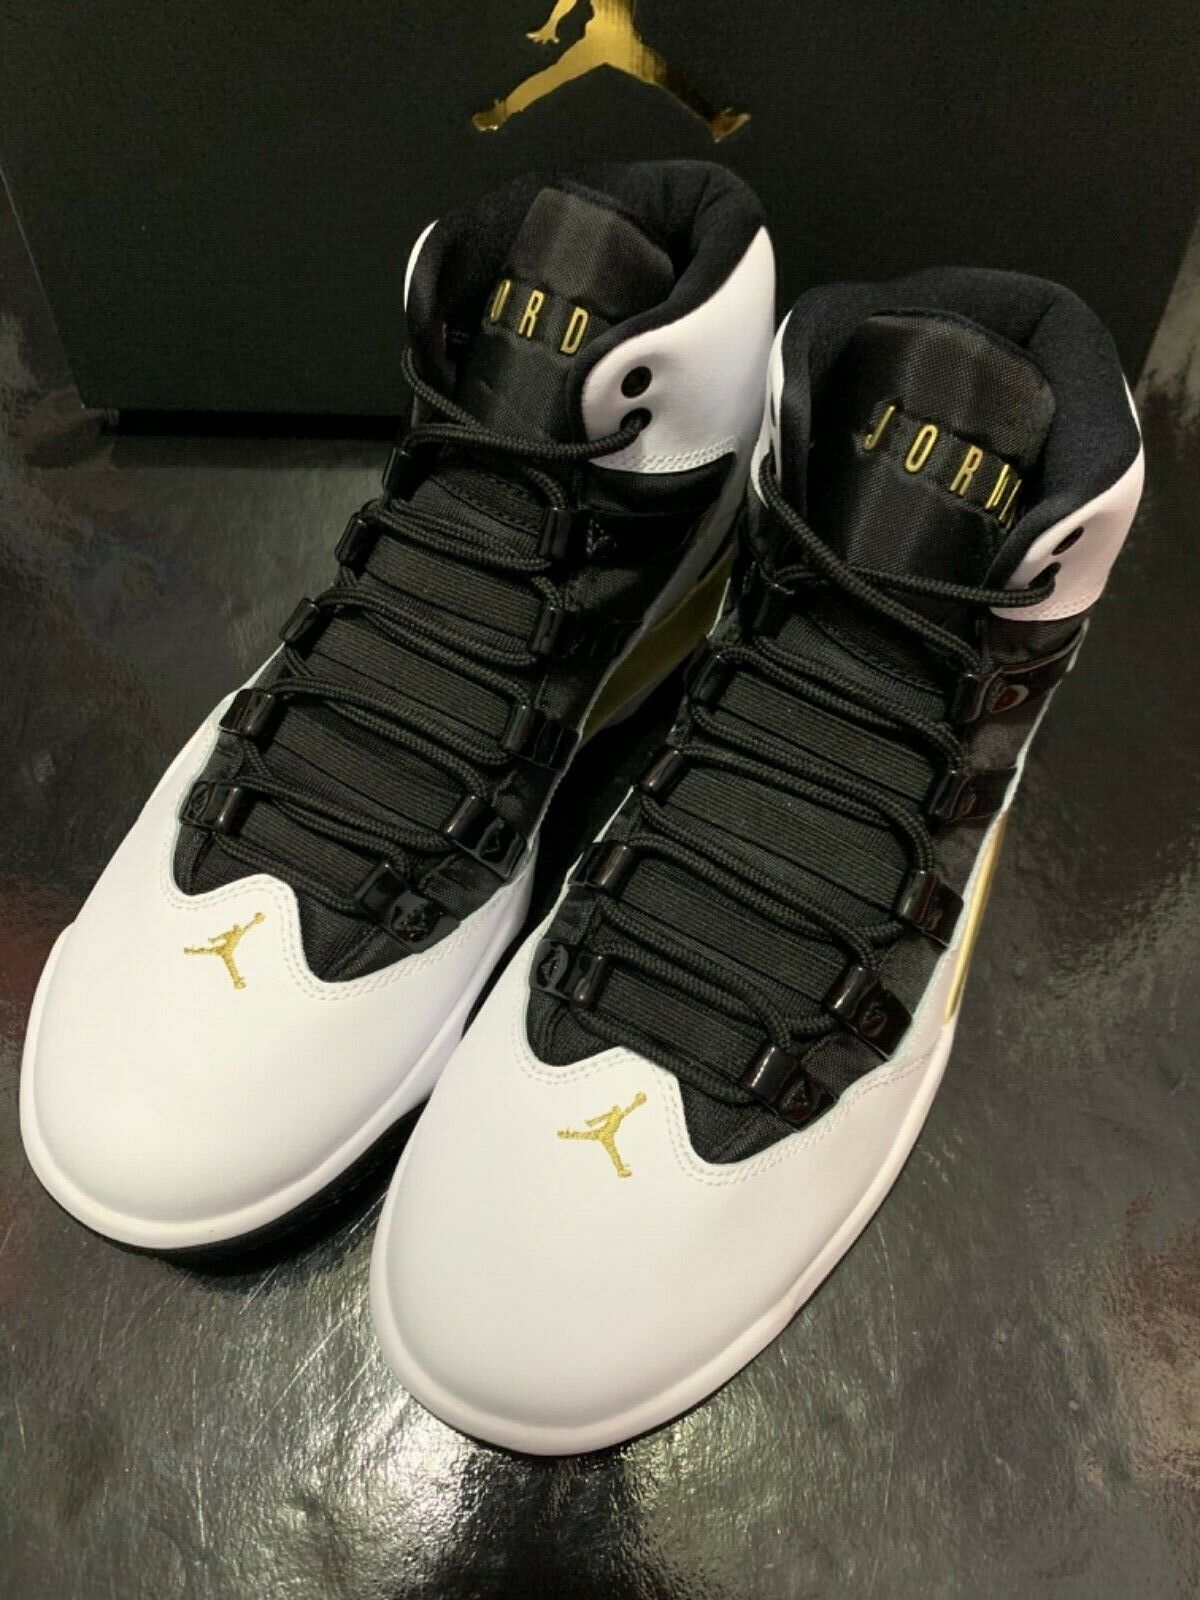shoes: (355, 246, 1165, 1477), (11, 37, 805, 1277)
